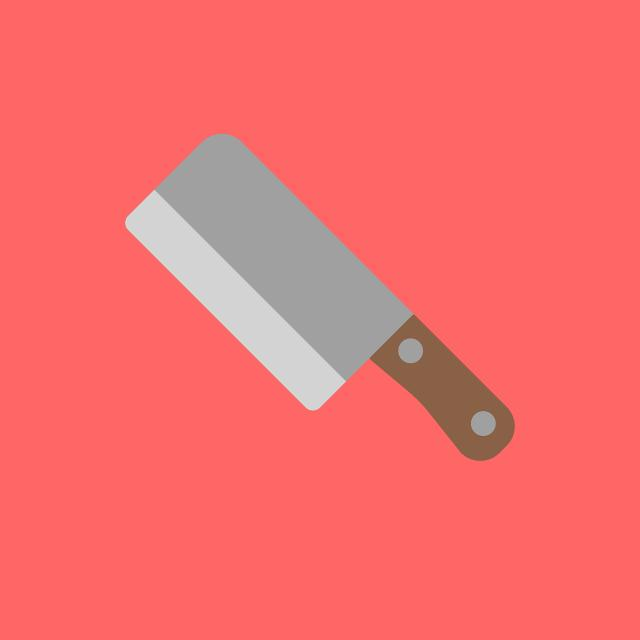Knife: (126, 134, 514, 460)
